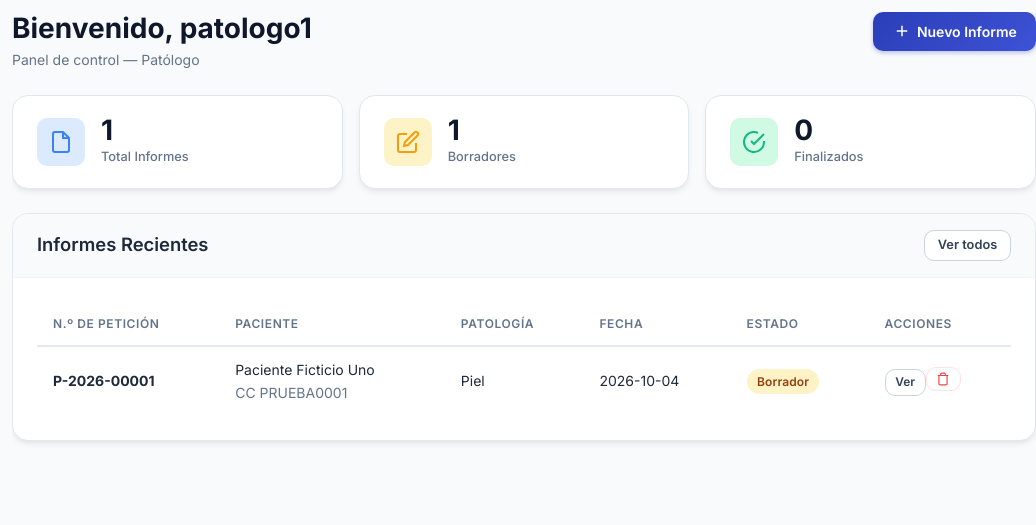
Test case: DashboardPage: errores visibles › muestra el motivo si no se puede eliminar un borrador
This screenshot has width=1036, height=525.
Click the button titled "Eliminar borrador": (943, 379) [926,367,961,391]
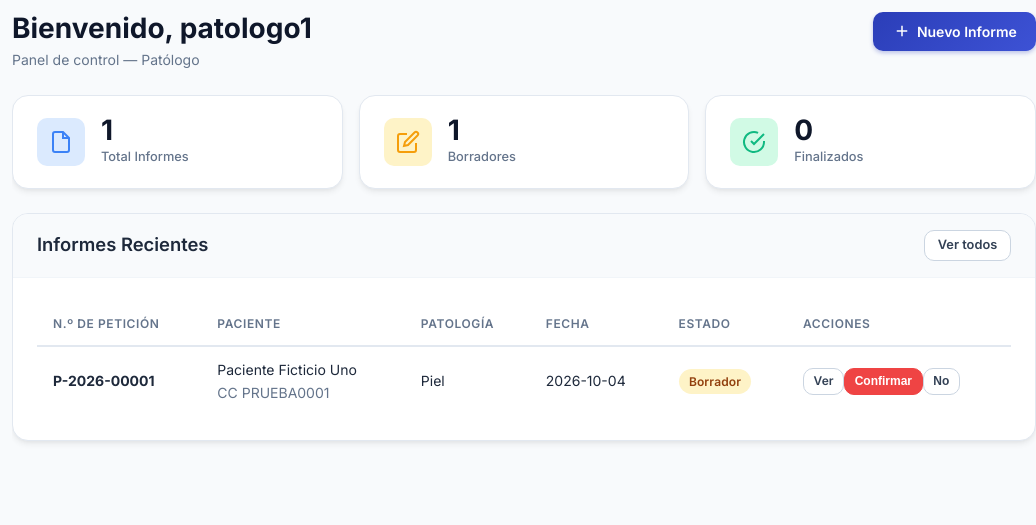
Click the button "Confirmar": (883, 382) [844,368,923,395]
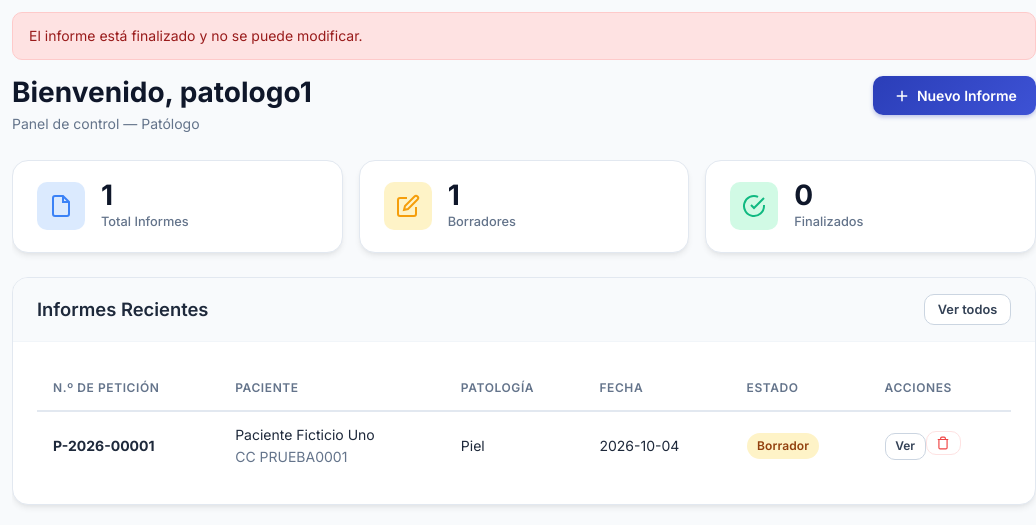
expect the text "El informe está finalizado y no se puede modificar." is shown: met, box [12,12,1035,60]
